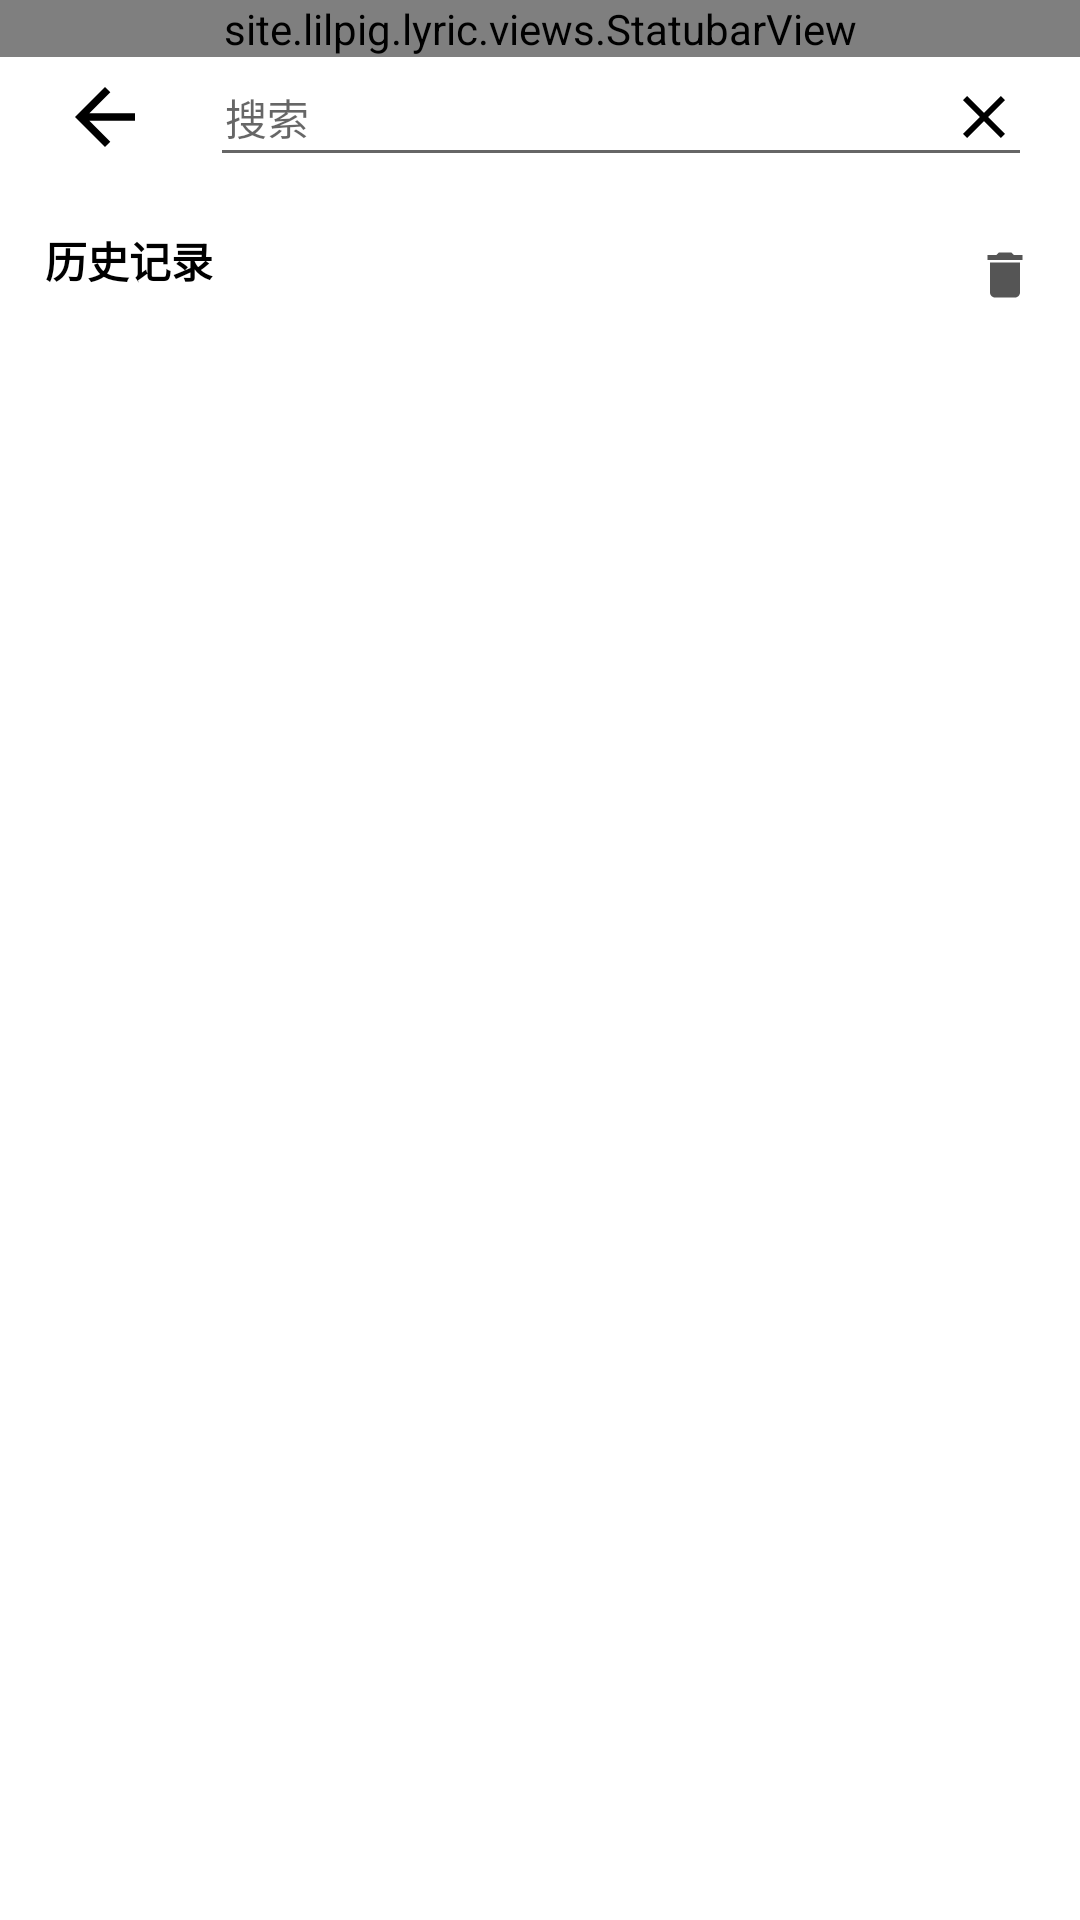

Screen size 1080 x 1920. Icon name, then its box in pixels as (x1, y1, x2, y2):
arrow back: (75, 87, 135, 147)
clear: (963, 96, 1005, 138)
delete: (987, 252, 1023, 298)
